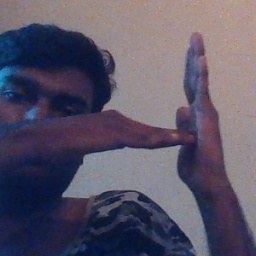Z: (127, 31, 226, 189)
